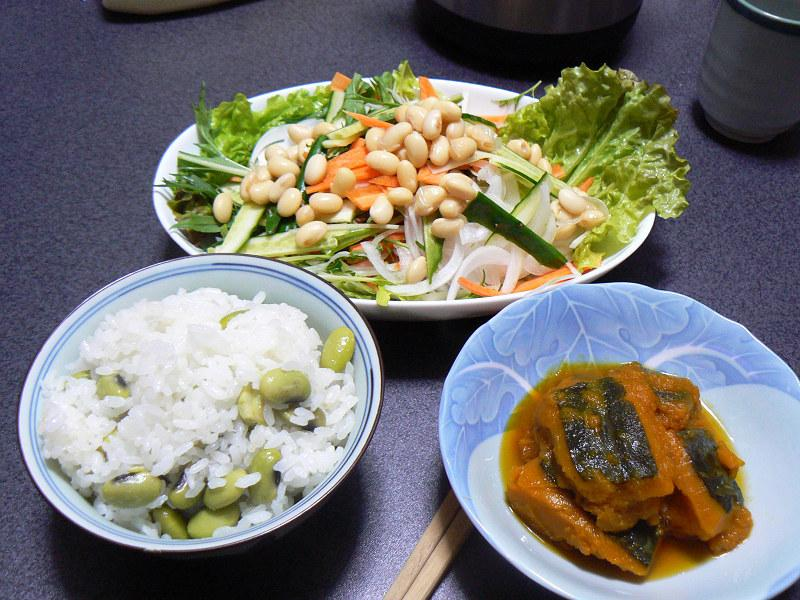rice: (37, 288, 362, 542)
